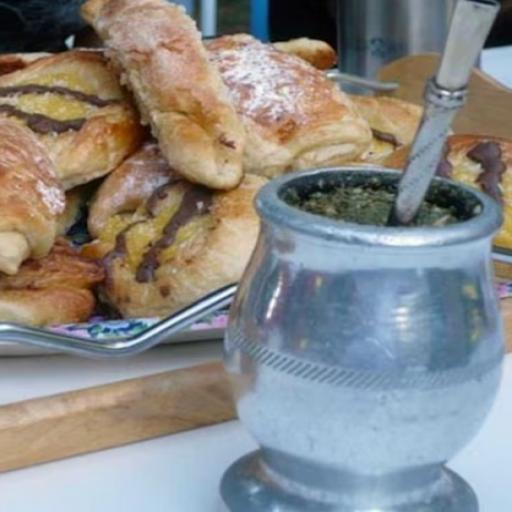bolleria: (85, 143, 265, 317), (82, 0, 244, 188), (207, 34, 369, 177), (0, 50, 145, 188), (0, 120, 64, 275)
mate: (220, 42, 503, 510)
